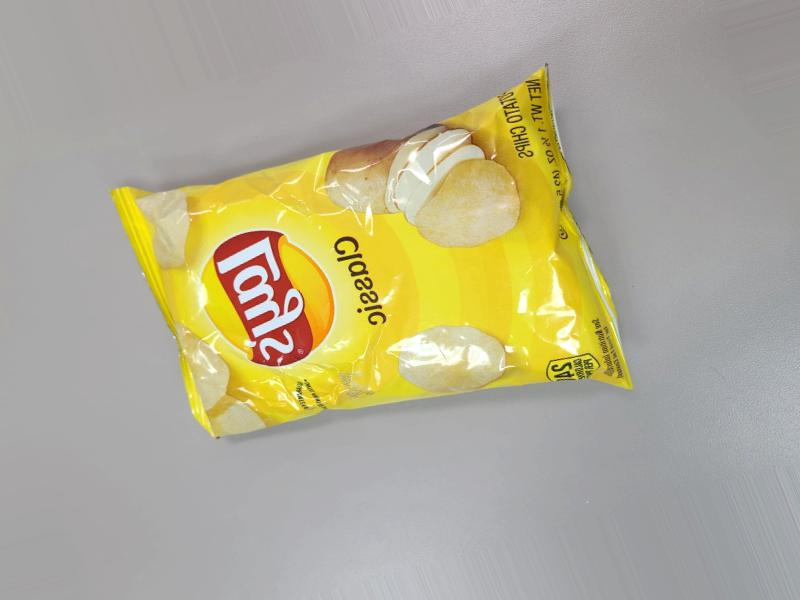lays: (179, 65, 633, 375)
